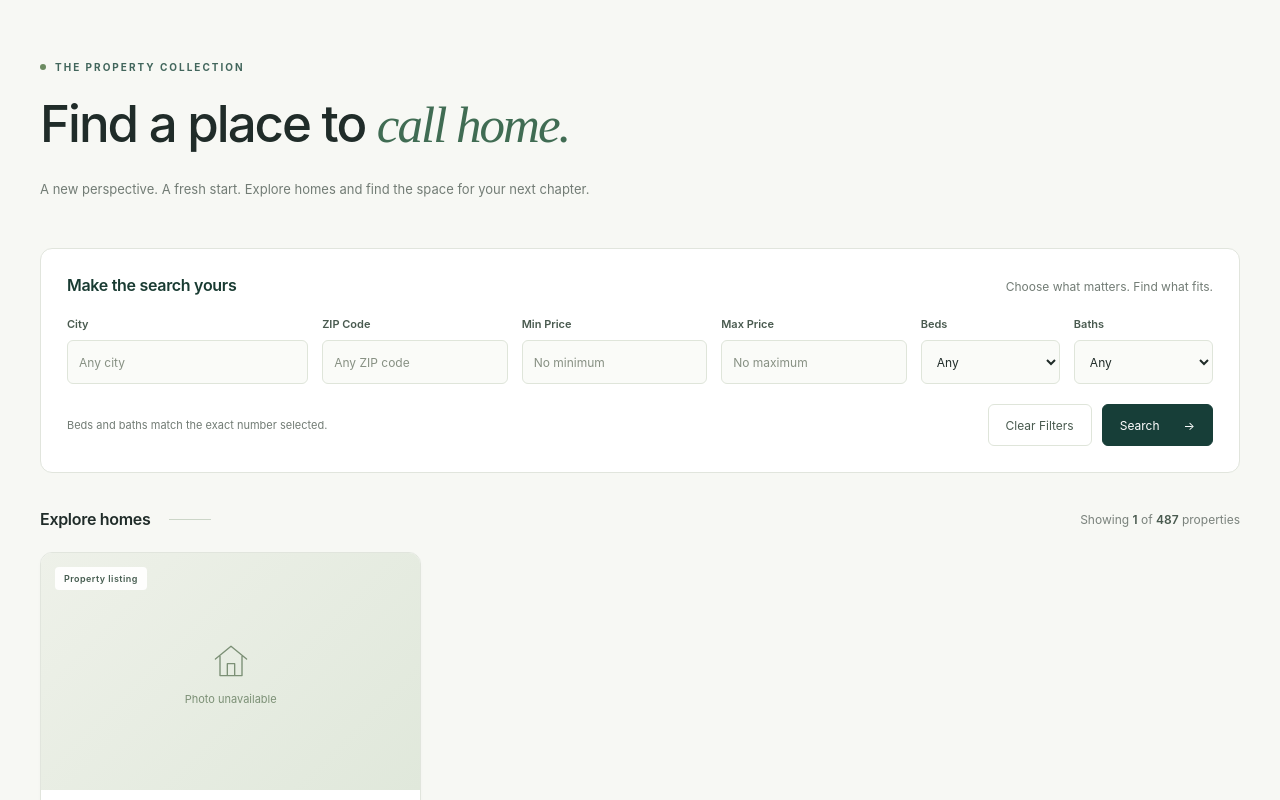
Test: submits all six filters only after Search and replaces the list and count
Type "Irvine" into the field labelled "City" at point(188, 362), box 67,340 -> 308,384
Type "09261" into the field labelled "ZIP Code" at point(415, 362), box 322,340 -> 508,384
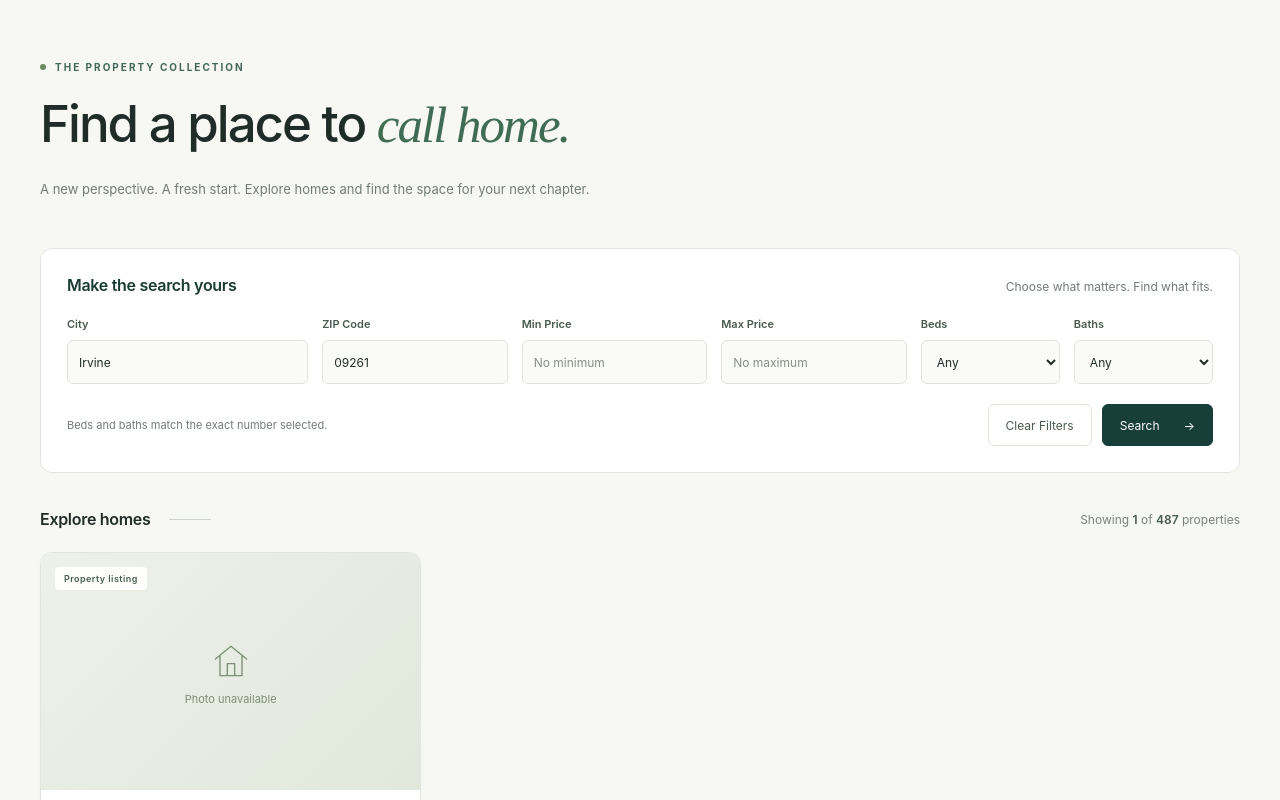
Type "300000" into the number field labelled "Min Price" at point(614, 362), box 522,340 -> 707,384
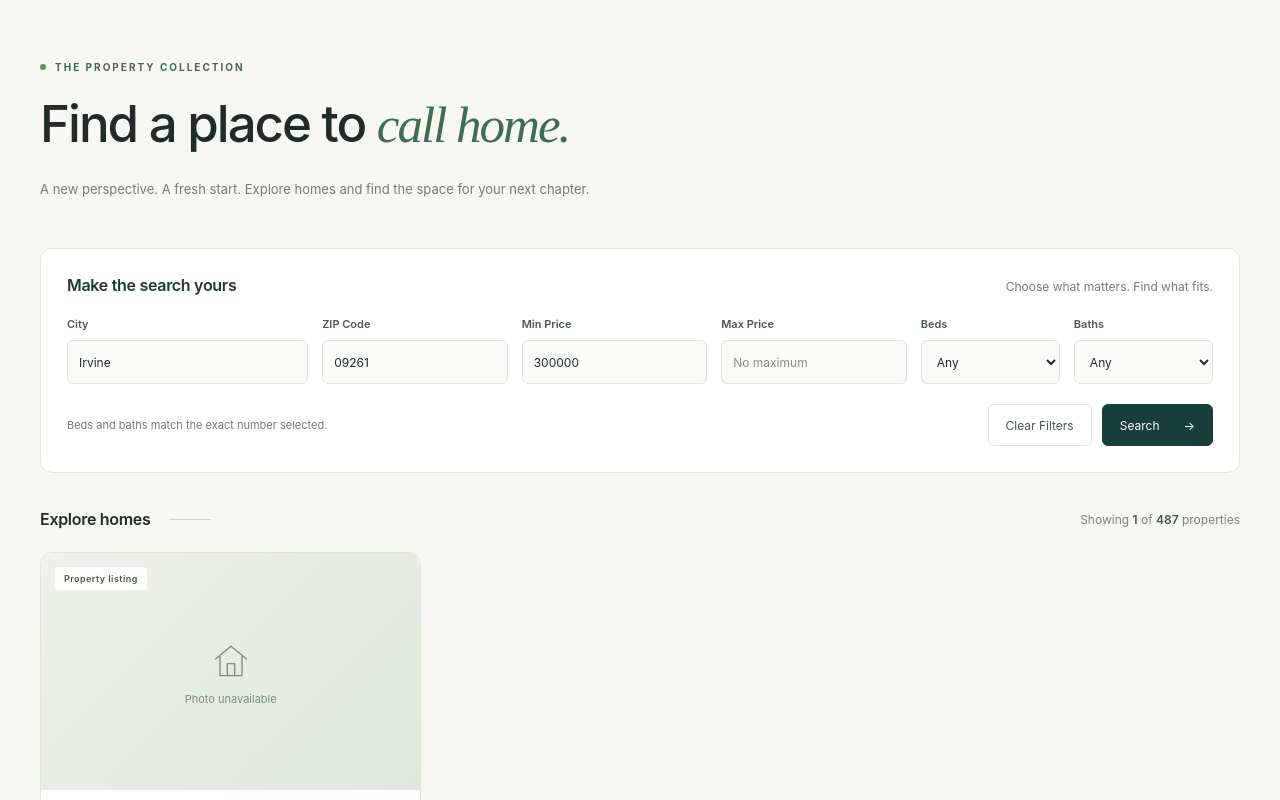
Type "1500000" into the number field labelled "Max Price" at point(814, 362), box 721,340 -> 907,384
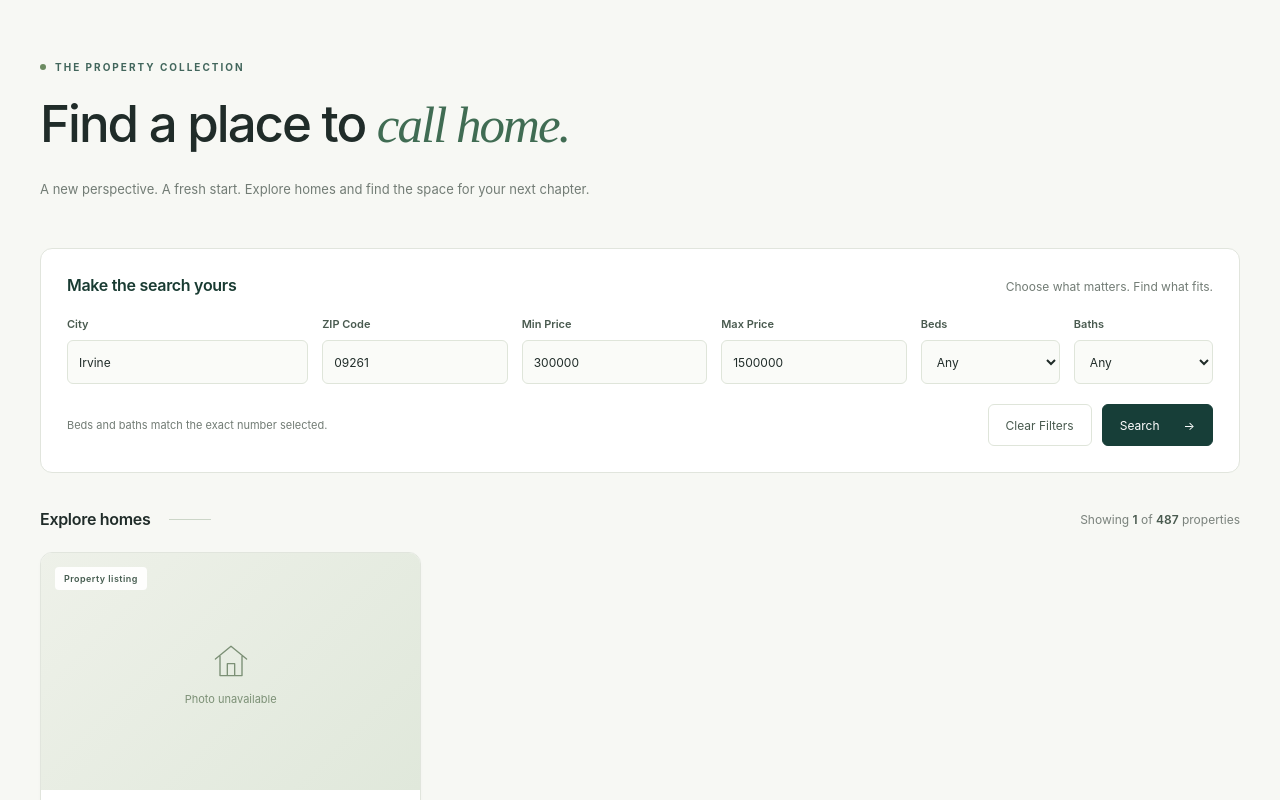
Select "3" in the dropdown labelled "Beds" at point(990, 362), box 921,340 -> 1060,384
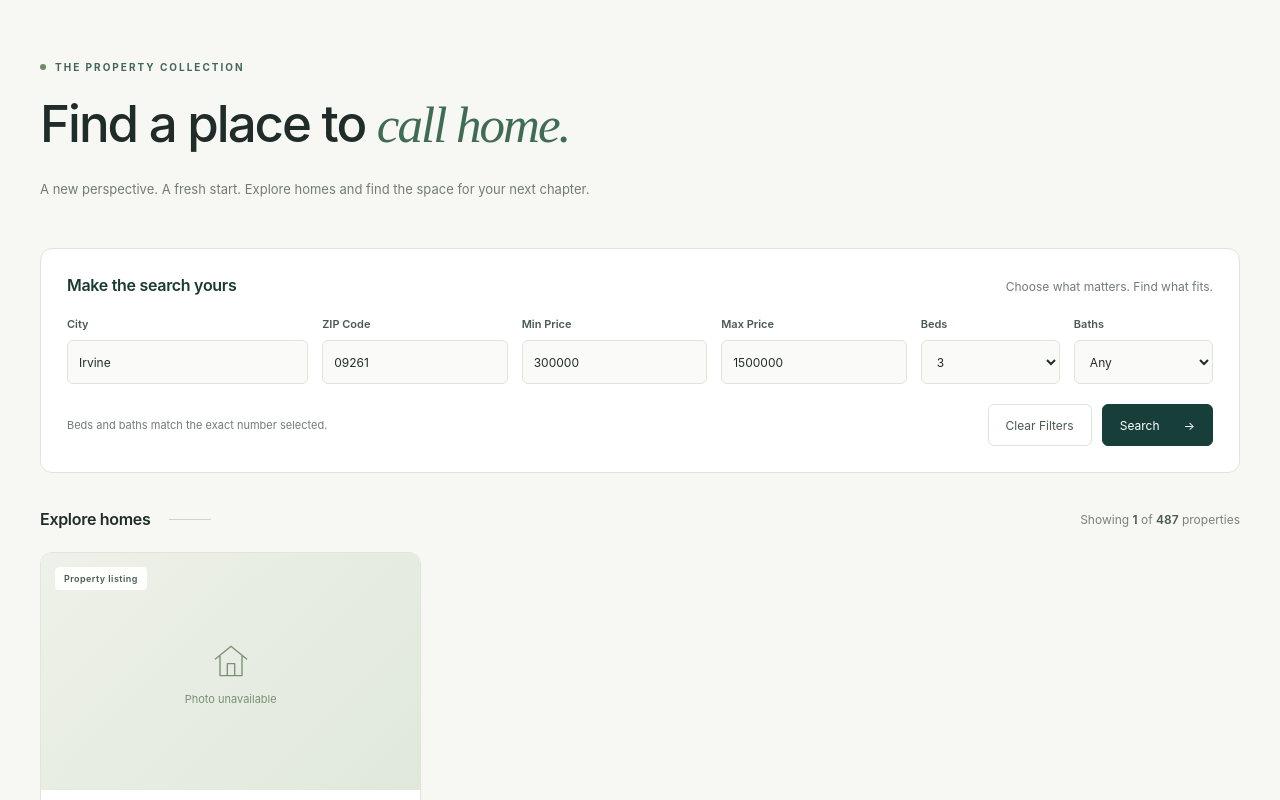
Select "2.5" in the dropdown labelled "Baths" at point(1143, 362), box 1074,340 -> 1213,384
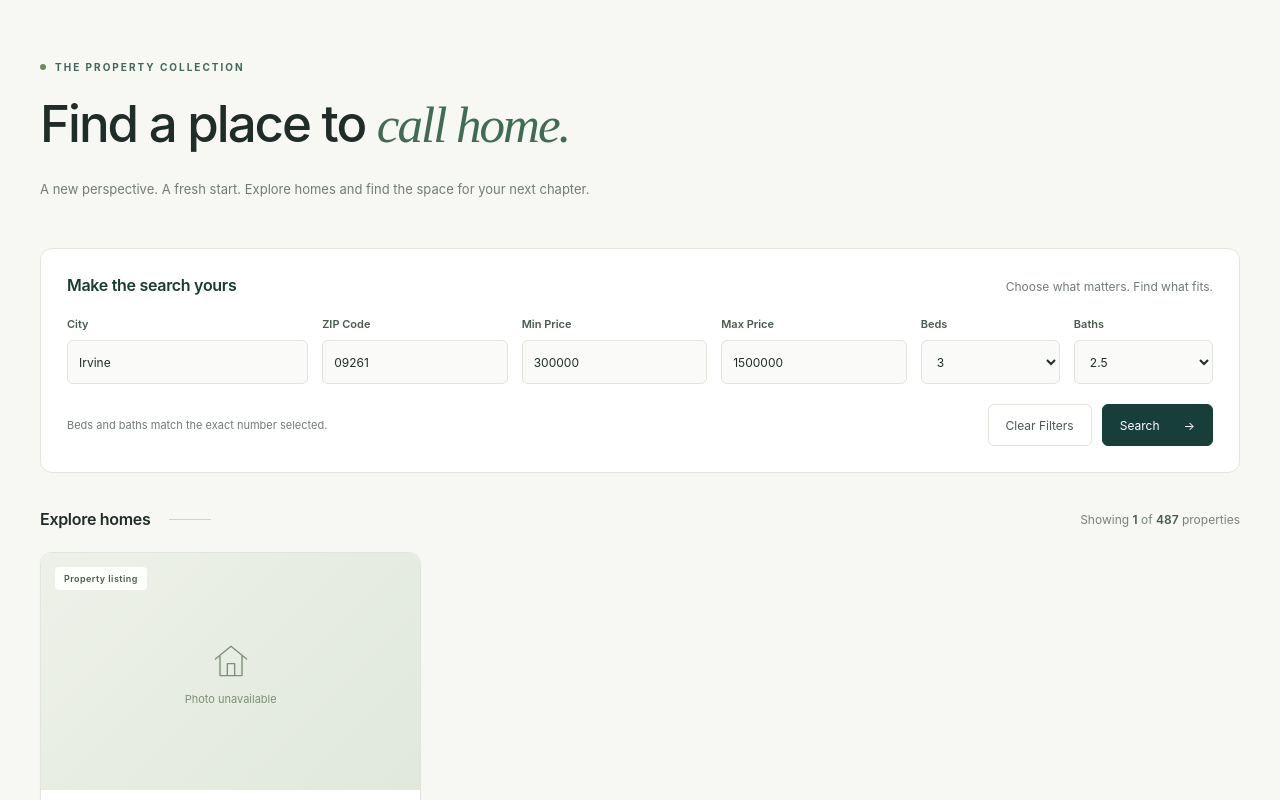
Click the button "Search →" at point(1157, 425), box 1102,404 -> 1213,446
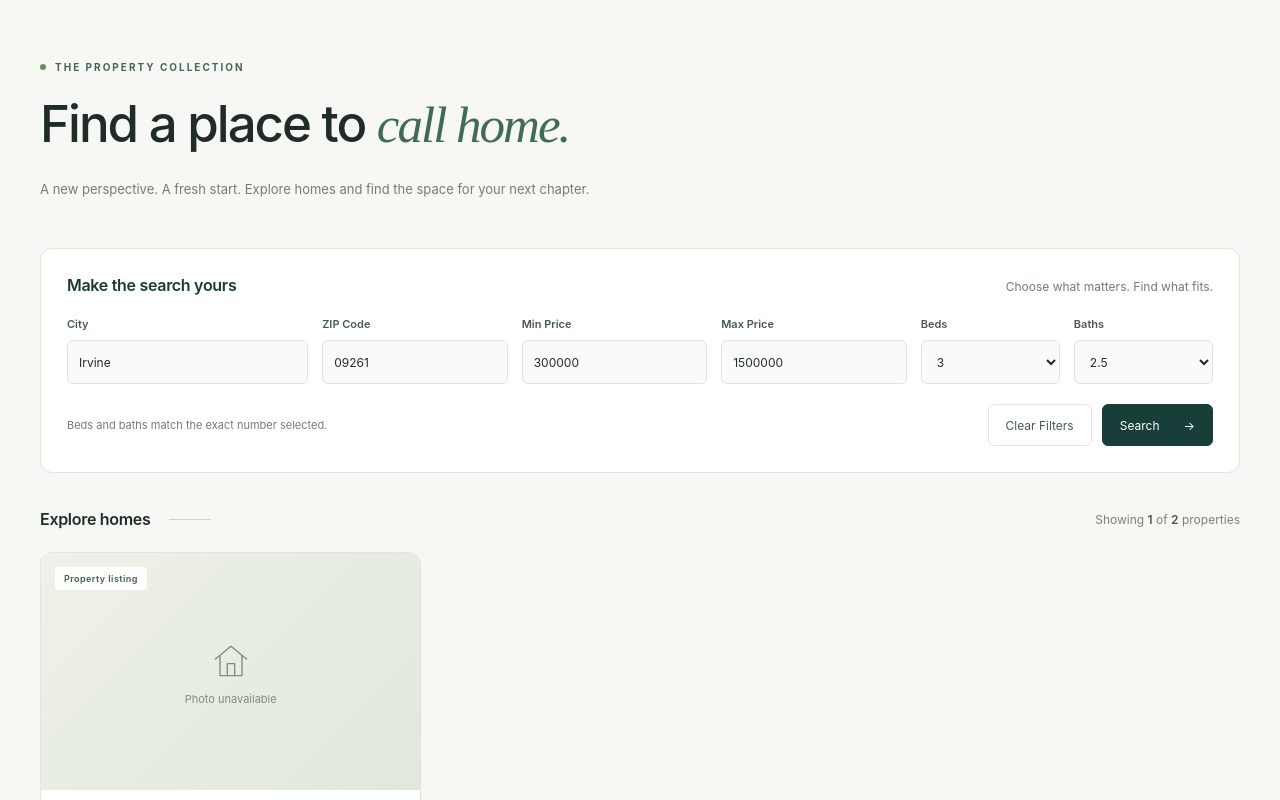
Check: the message reads "Showing 1 of 2 properties", box 1095,512 -> 1240,527
